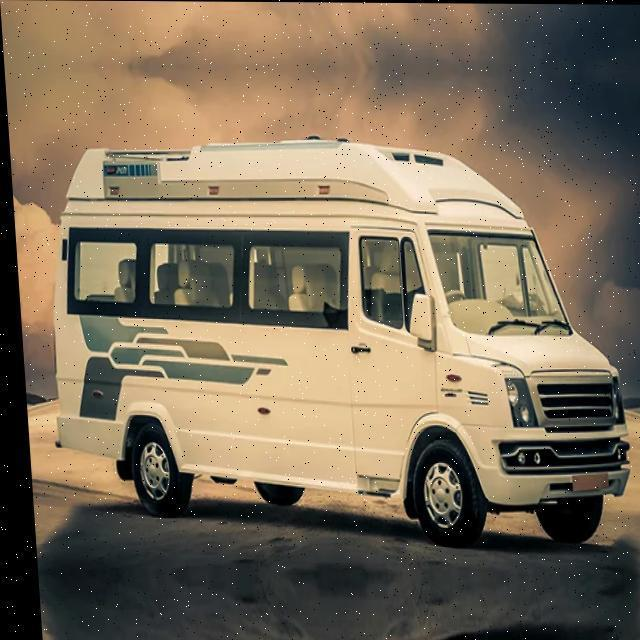Ambulance: (30, 129, 634, 552), (22, 394, 640, 640)
